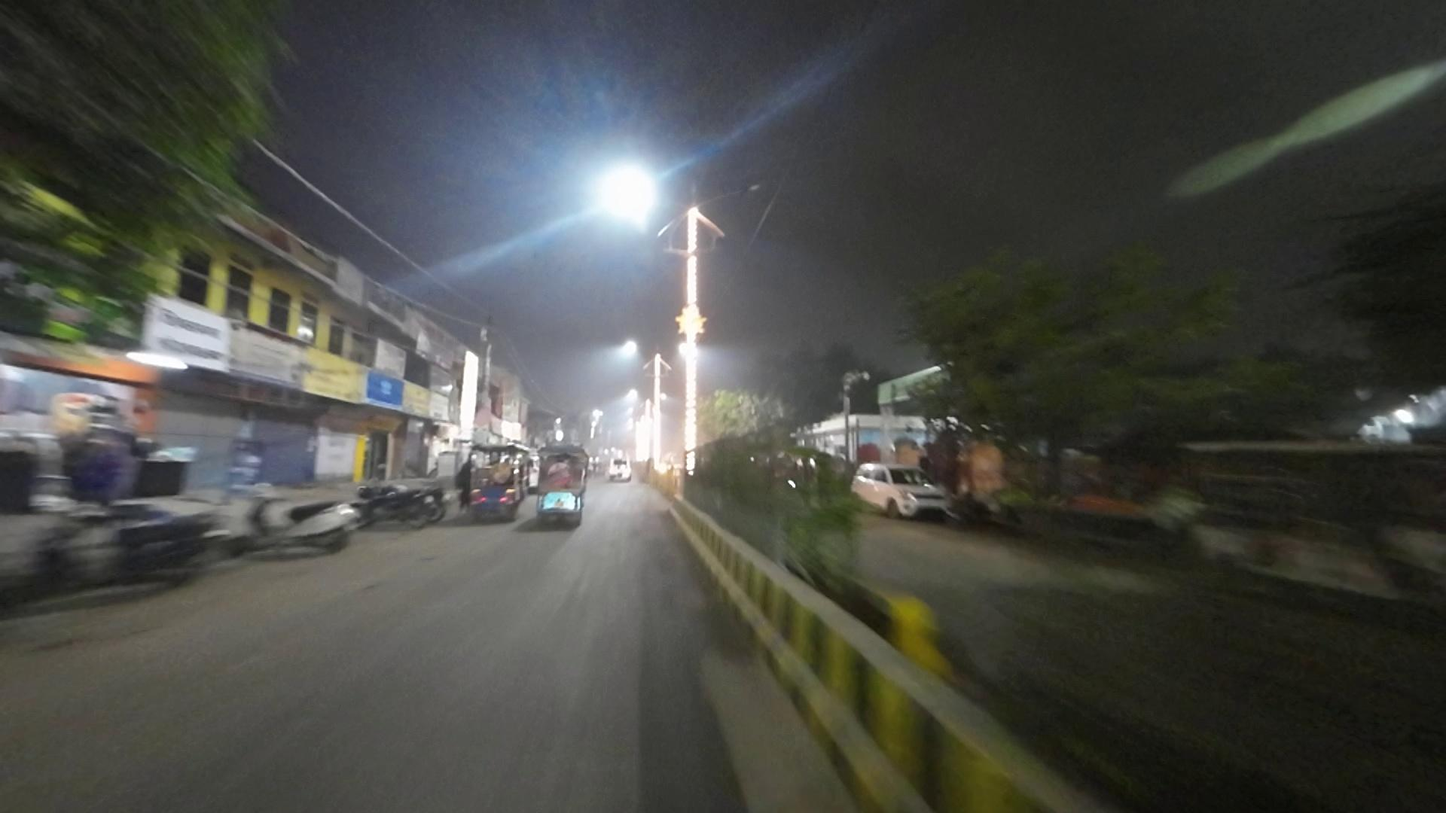streetlight: (705, 181, 763, 202)
